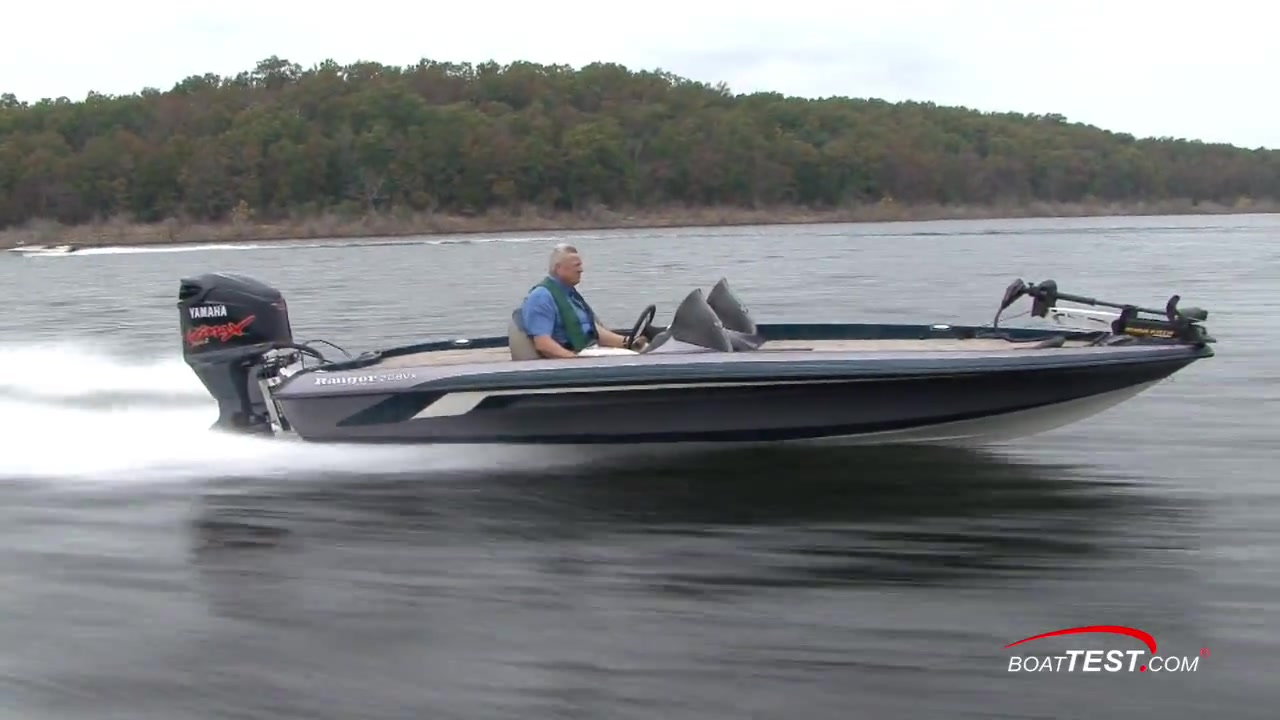boat: (175, 259, 1221, 467)
